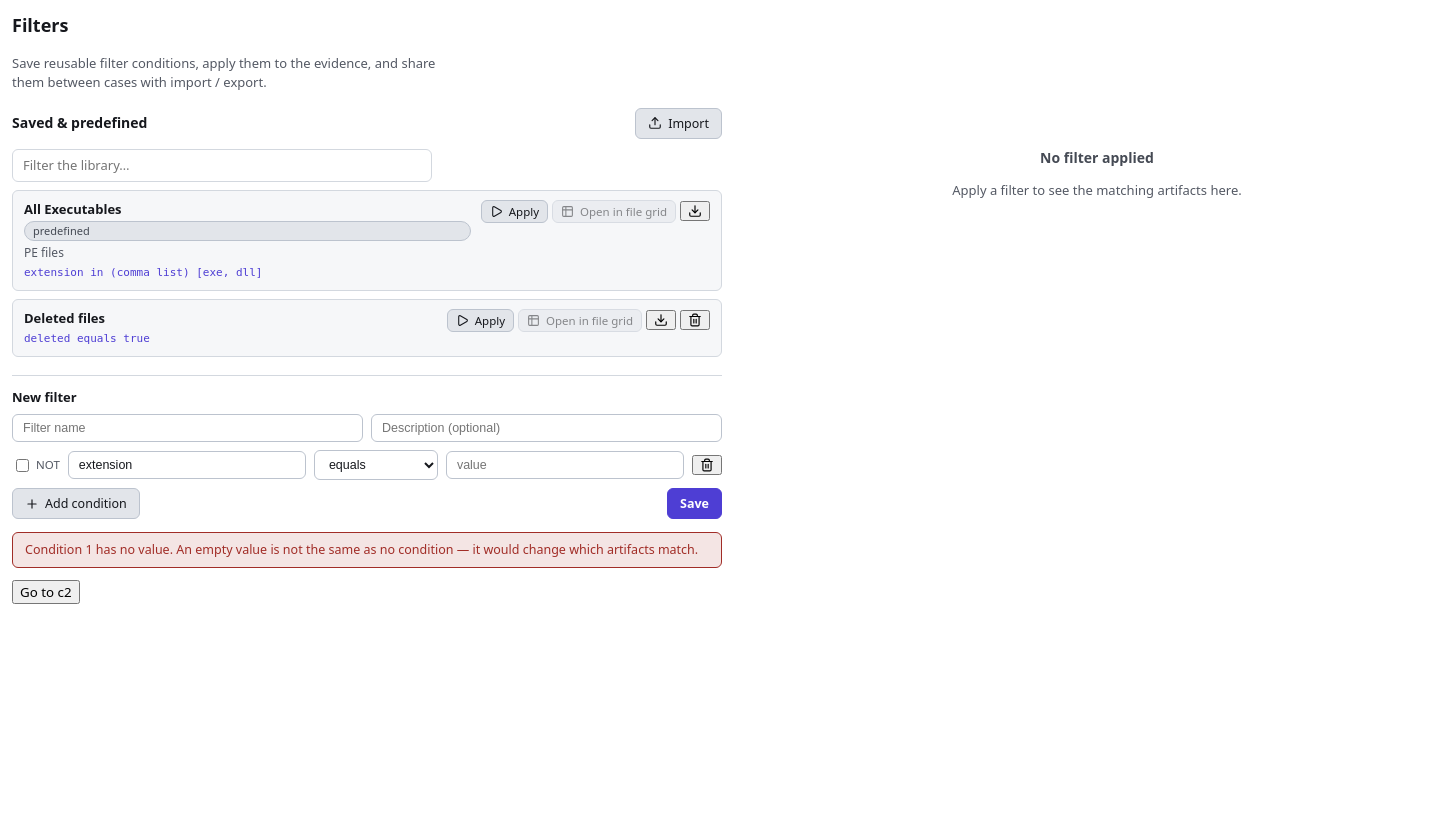
FiltersPage › applies a filter and shows matching artifacts
Expected: the text "Deleted files" is shown, [24, 309, 105, 327]
Click the button "Apply" in the row of "Deleted files". click: click(480, 320)
box: [447, 309, 514, 332]
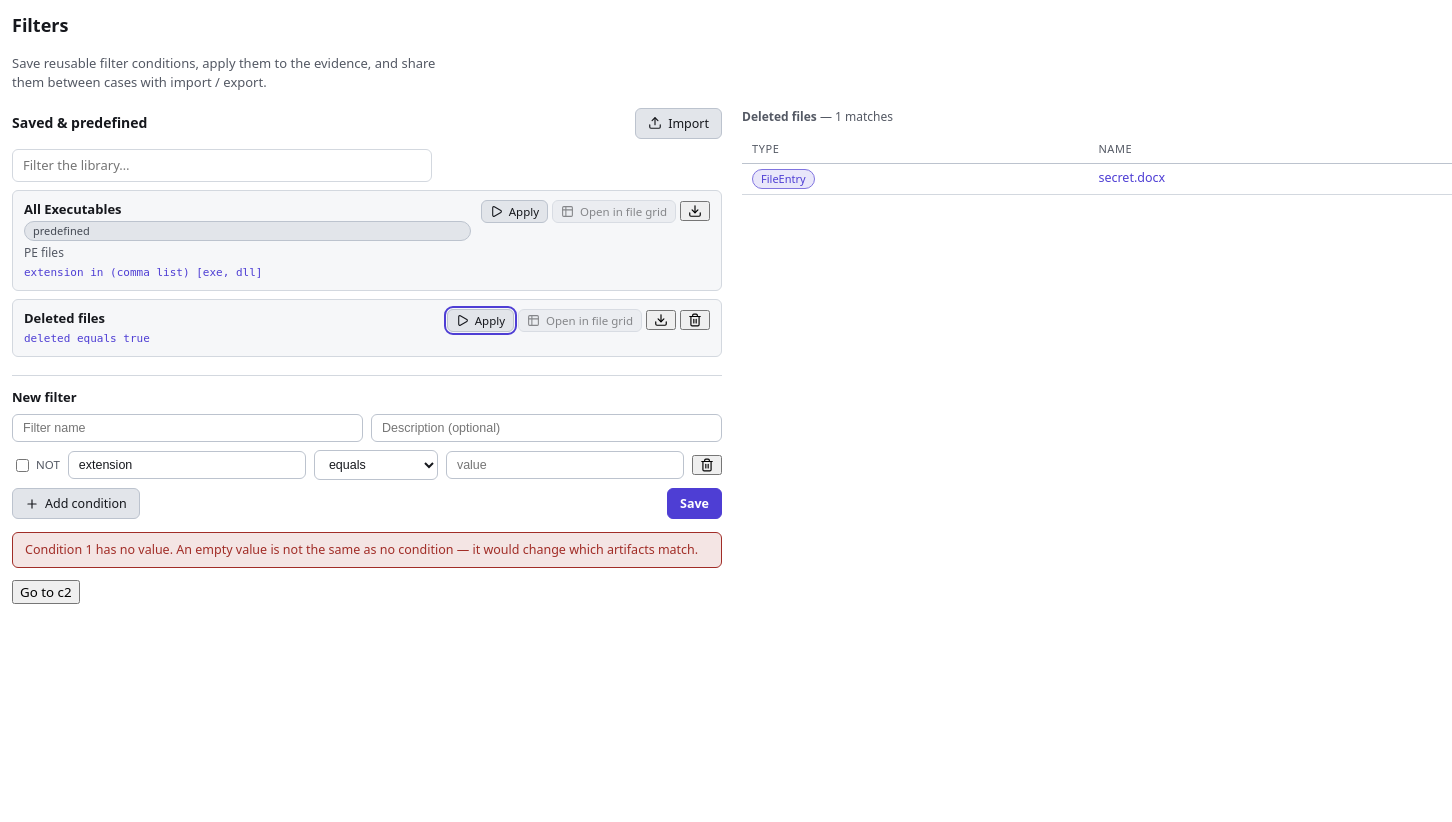
Expected: the link "secret.docx" is shown, [1098, 169, 1165, 186]
Expected: the text "Deleted files — 1 matches" is shown, [742, 108, 893, 125]
